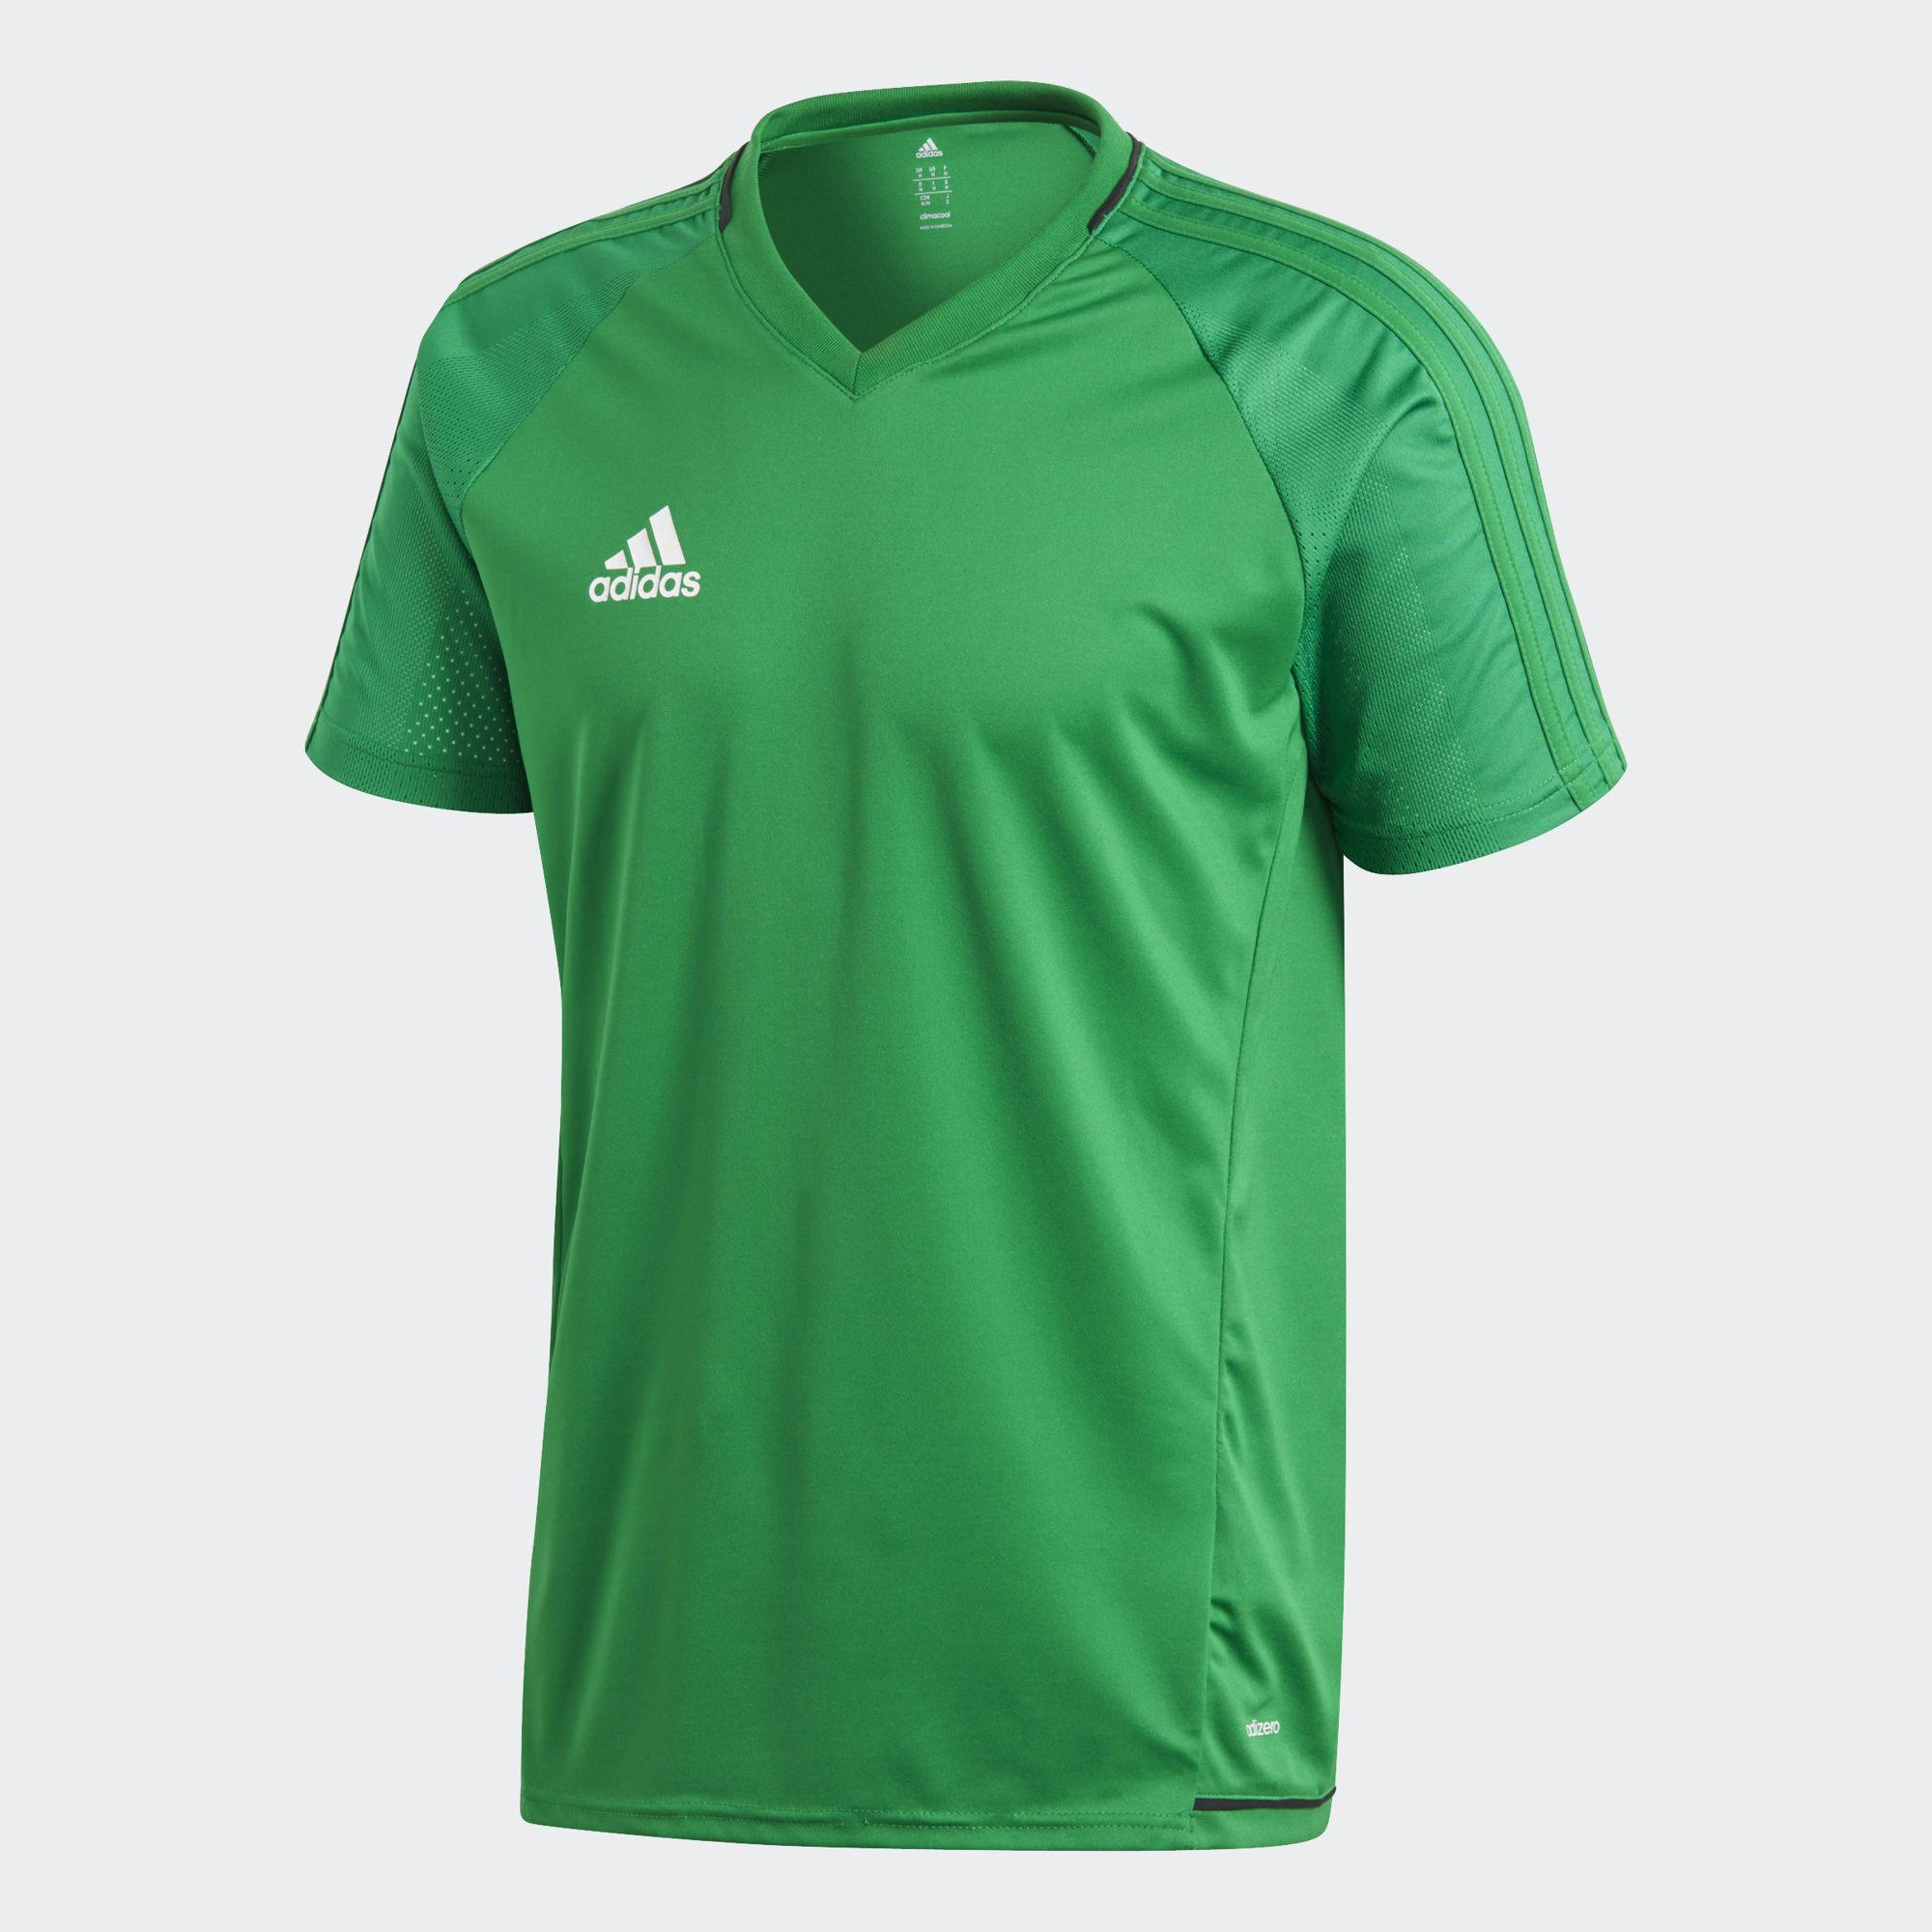teeshirt: (274, 67, 1605, 1870)
